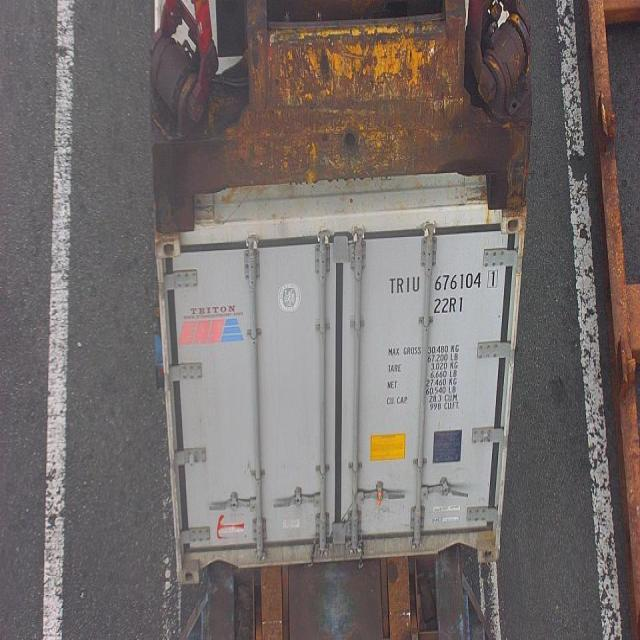ISO: (434, 297, 466, 315)
container_number: (387, 272, 500, 296)
